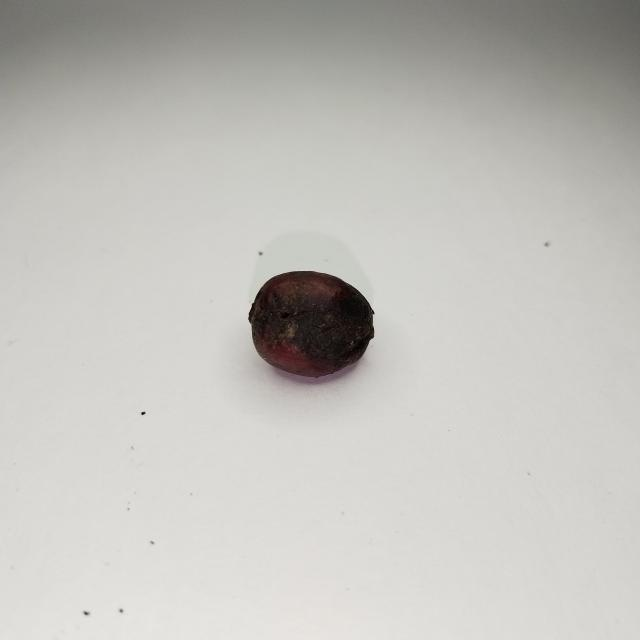Danado: (249, 269, 374, 381)
